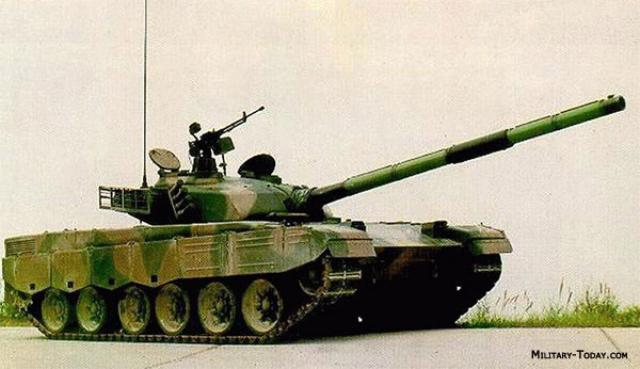tank: (14, 133, 512, 334)
